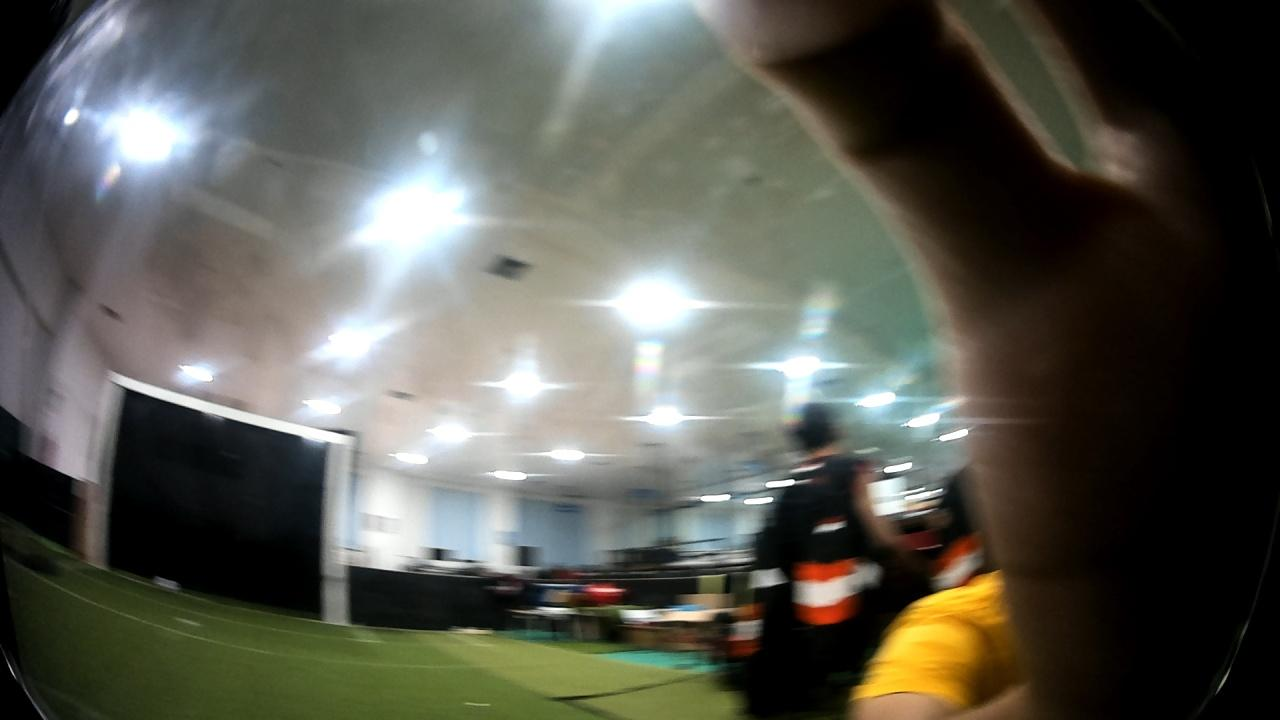ball: (152, 573, 177, 592)
